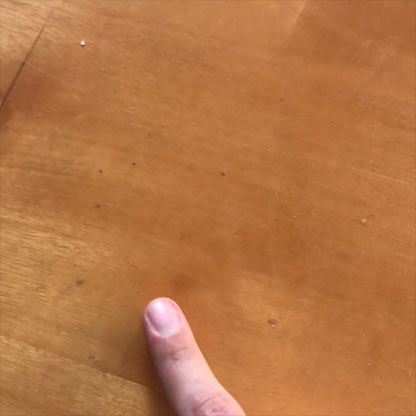fingertip: (136, 293, 195, 344)
